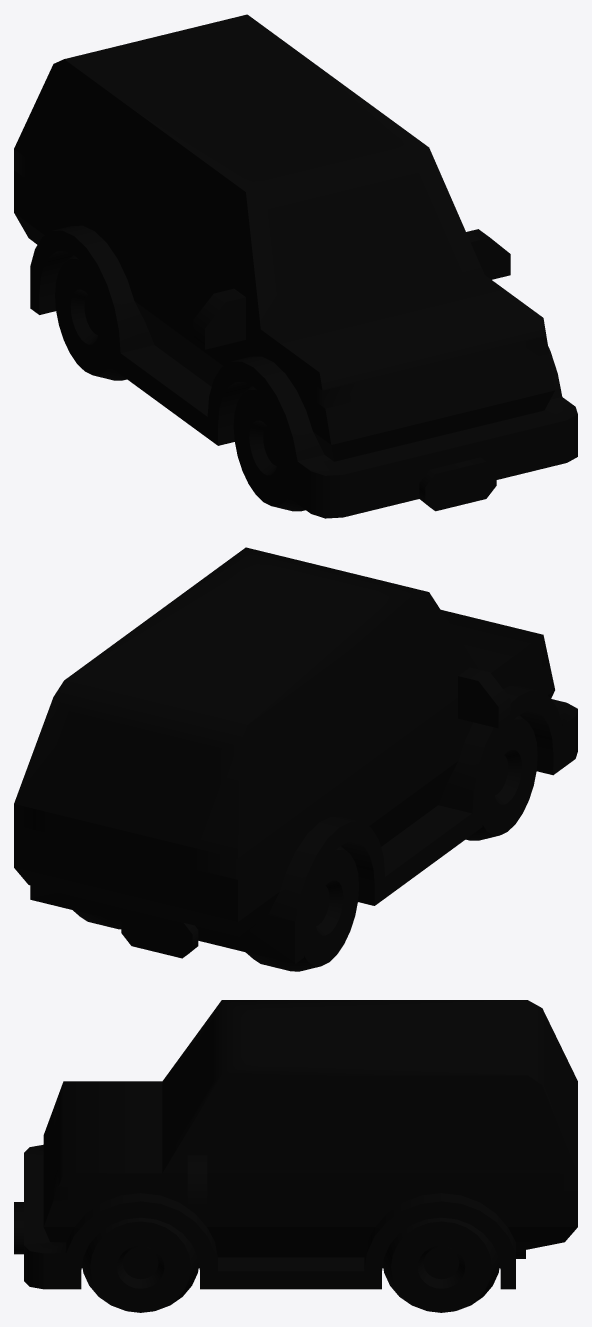
File: suv-luxury.glb
3 views of the same model, one above another, from view 1: azimuth 30°, elevation 25°; view 2: azimuth 150°, elevation 25°; view 3: azimuth 270°, elevation 25° (orthographic). The views are drawn at different scales.
Parts seen in each view (by area): view 1: body, wheel-back-right (×2); view 2: body, wheel-back-right (×2); view 3: body, wheel-front-left (×2).
Boxes of the visible parts, box(x1,y1,x2,y2) form: body: box(14, 14, 577, 518); wheel-back-right (×2): box(55, 255, 305, 511); body: box(14, 547, 577, 964); wheel-back-right (×2): box(246, 715, 537, 971); body: box(14, 1000, 577, 1289); wheel-front-left (×2): box(82, 1217, 499, 1312).
Size of the model in its own units: 1.5 by 1.3 by 2.85.
Materials: 1 (1 with a texture image).
